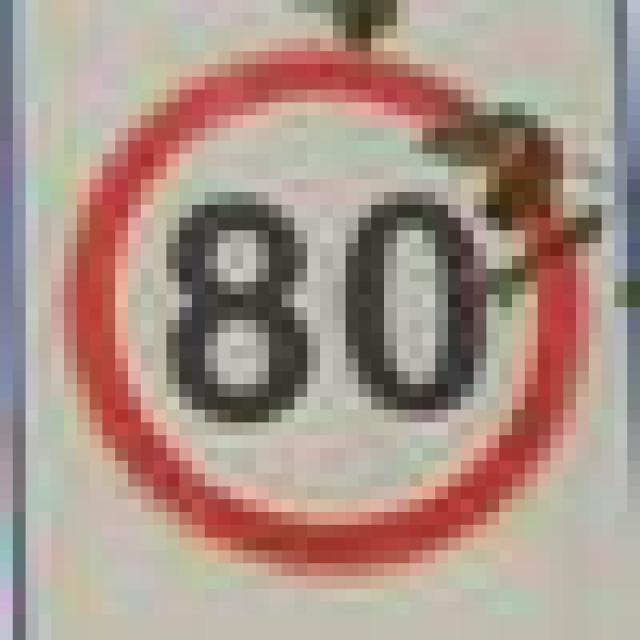speed_limit_50: (51, 38, 589, 576)
